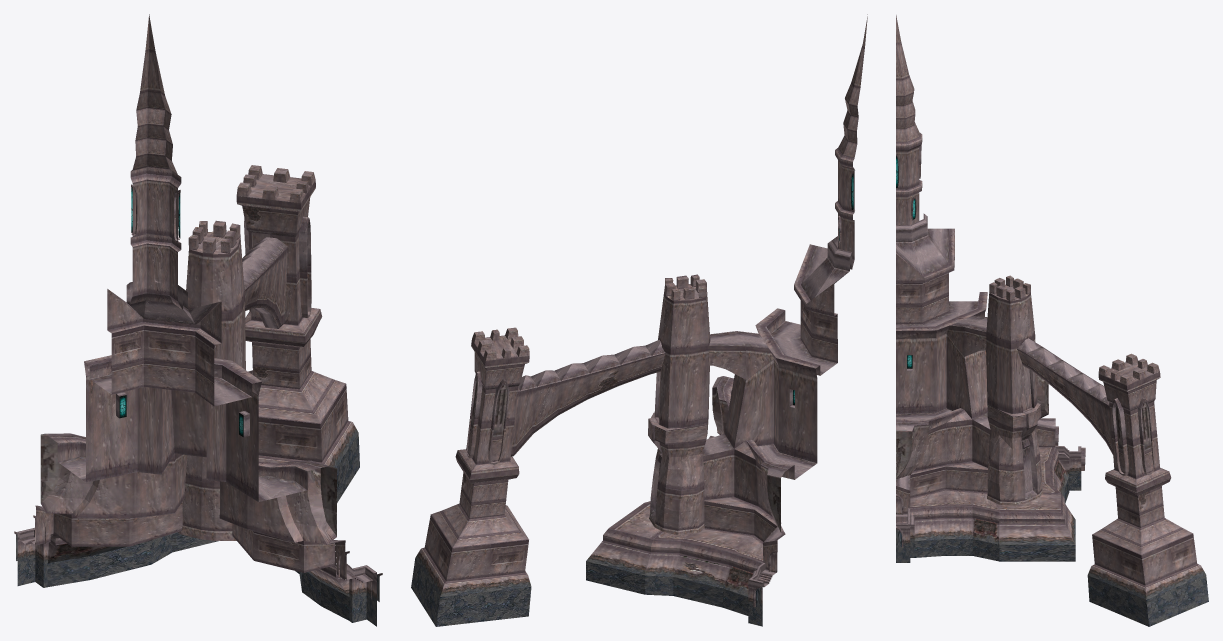
The model's file is VLADSTAG.obj.
3 views of the same model, side by side, from view 1: azimuth 30°, elevation 25°; view 2: azimuth 150°, elevation 25°; view 3: azimuth 270°, elevation 25° (orthographic). The views are drawn at different scales.
Visible parts, largest first — view 1: Node 0; view 2: Node 0; view 3: Node 0.
Part boxes in pixels (<box>): Node 0: <box>14,14,382,626</box>; Node 0: <box>411,14,867,626</box>; Node 0: <box>896,15,1208,626</box>.
Bounding box in the file's own units: 62.15 × 103 × 61.23.
Materials: 6 (6 with a texture image).
